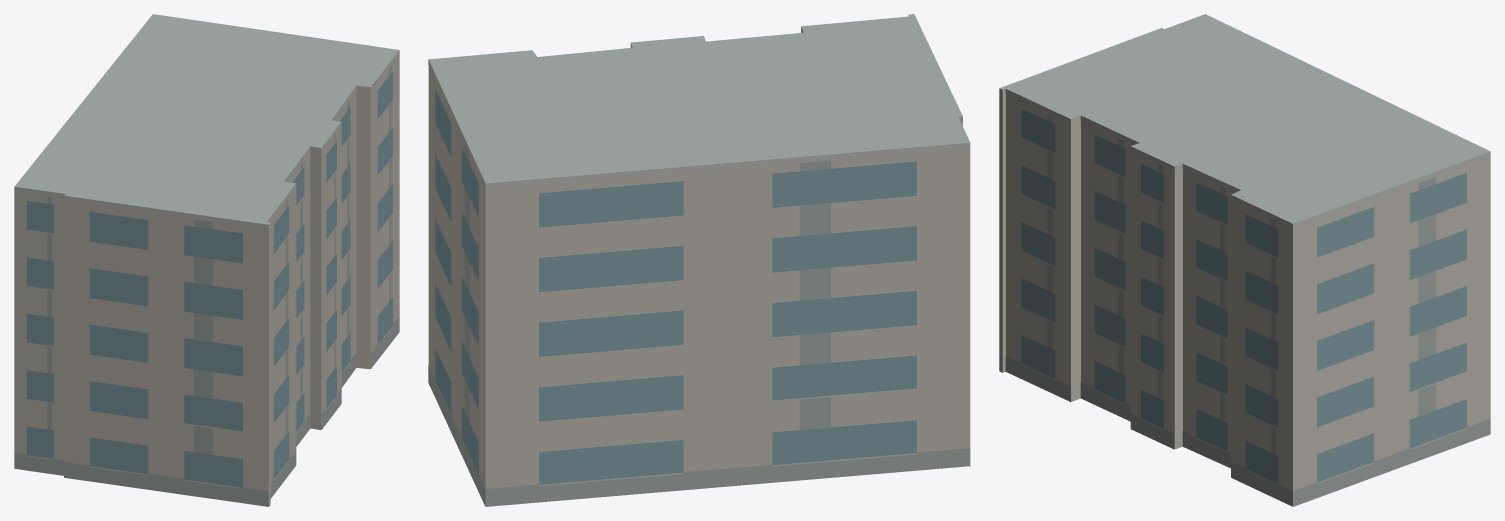
The model's file is survey-upis-33028354.glb.
3 renders of one model, left to right at view 1: azimuth 30°, elevation 25°; view 2: azimuth 150°, elevation 25°; view 3: azimuth 270°, elevation 25°, orthographic. The views are drawn at different scales.
Parts seen in each view (by area): view 1: survey-upis-33028354.tmp; view 2: survey-upis-33028354.tmp; view 3: survey-upis-33028354.tmp.
Part boxes in pixels (box(x1,y1,x2,y2)): survey-upis-33028354.tmp: box(14, 14, 399, 506); survey-upis-33028354.tmp: box(428, 14, 970, 506); survey-upis-33028354.tmp: box(999, 14, 1490, 506).
Bounding box in the file's own units: 21.33 × 13.4 × 21.1.
